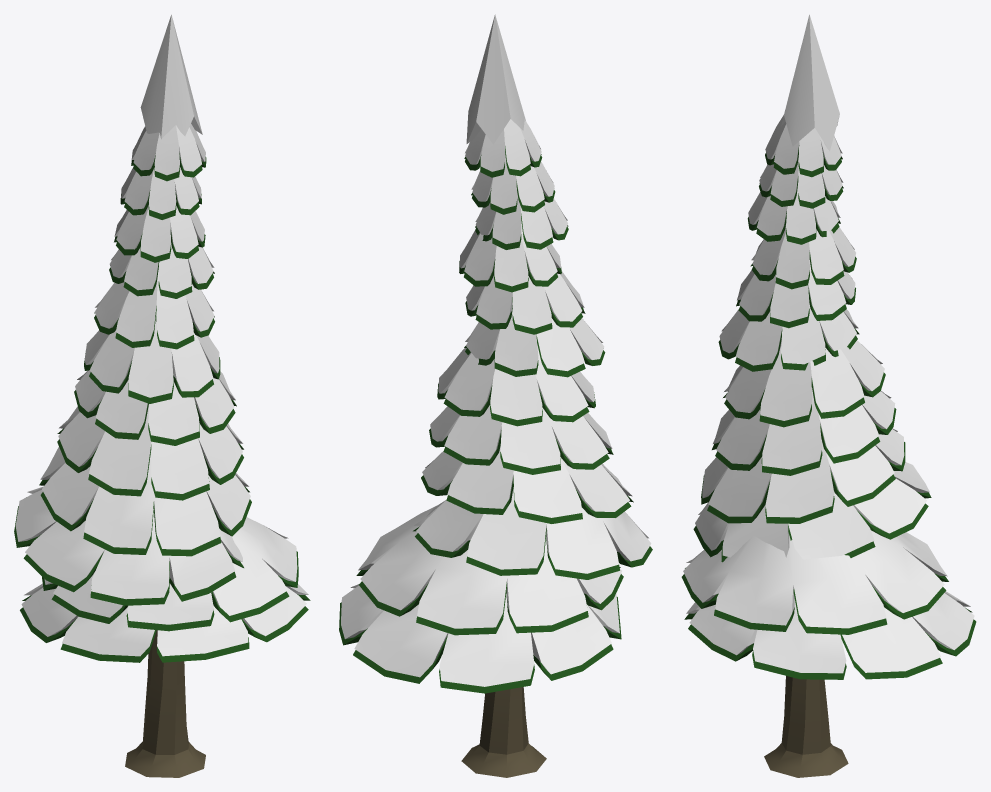
The model's file is blender env assets tree 4.fbx.
The picture shows the model from 3 angles, left to right: view 1: azimuth 30°, elevation 25°; view 2: azimuth 150°, elevation 25°; view 3: azimuth 270°, elevation 25°; orthographic projection.
Visible parts, largest first — view 1: Cylinder.044; view 2: Cylinder.044; view 3: Cylinder.044.
Boxes of the visible parts, <box> form: Cylinder.044: <box>14,14,310,777</box>; Cylinder.044: <box>339,14,652,777</box>; Cylinder.044: <box>681,14,976,777</box>.
Bounding box in the file's own units: 105 × 274 × 97.65.
